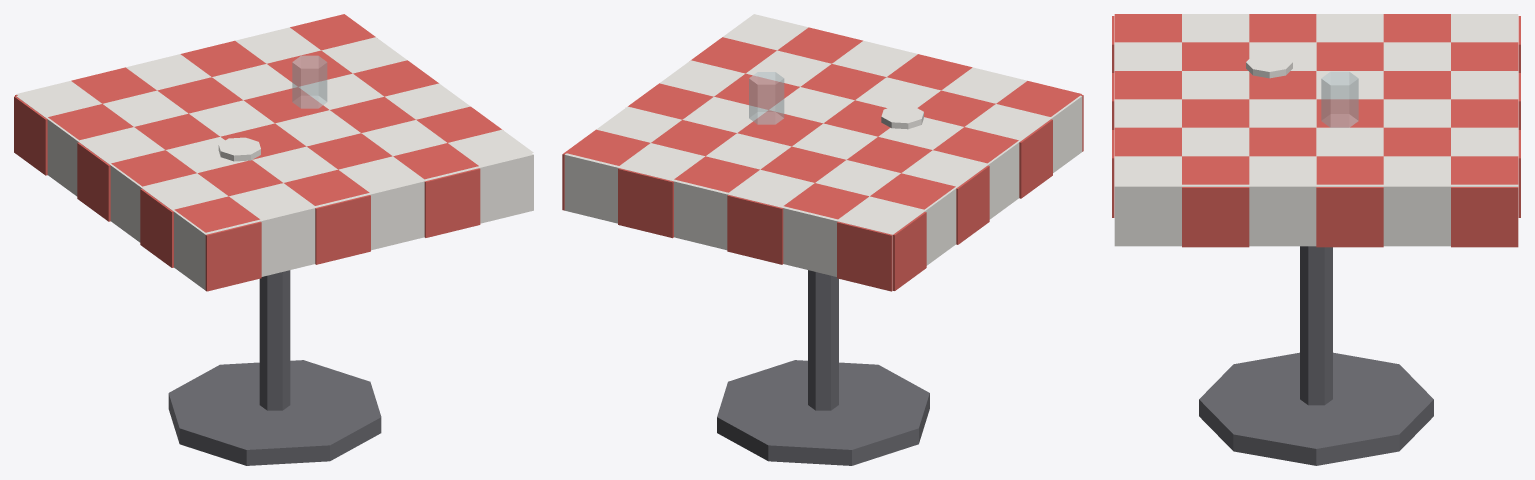
The model's file is prop_terrace_table_01.glb.
3 views of the same model, side by side, from view 1: azimuth 30°, elevation 25°; view 2: azimuth 150°, elevation 25°; view 3: azimuth 270°, elevation 25° (orthographic). The views are drawn at different scales.
Visible parts, largest first — view 1: prop_terrace_table_01_body; view 2: prop_terrace_table_01_body; view 3: prop_terrace_table_01_body.
Boxes of the visible parts, <box> form: prop_terrace_table_01_body: <box>14,14,533,465</box>; prop_terrace_table_01_body: <box>562,14,1083,465</box>; prop_terrace_table_01_body: <box>1112,14,1520,465</box>.
Bounding box in the file's own units: 0.871 × 0.85 × 0.871.
